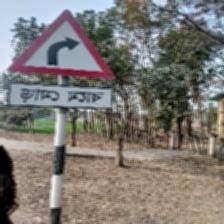Left-Turn: (6, 8, 118, 113)
